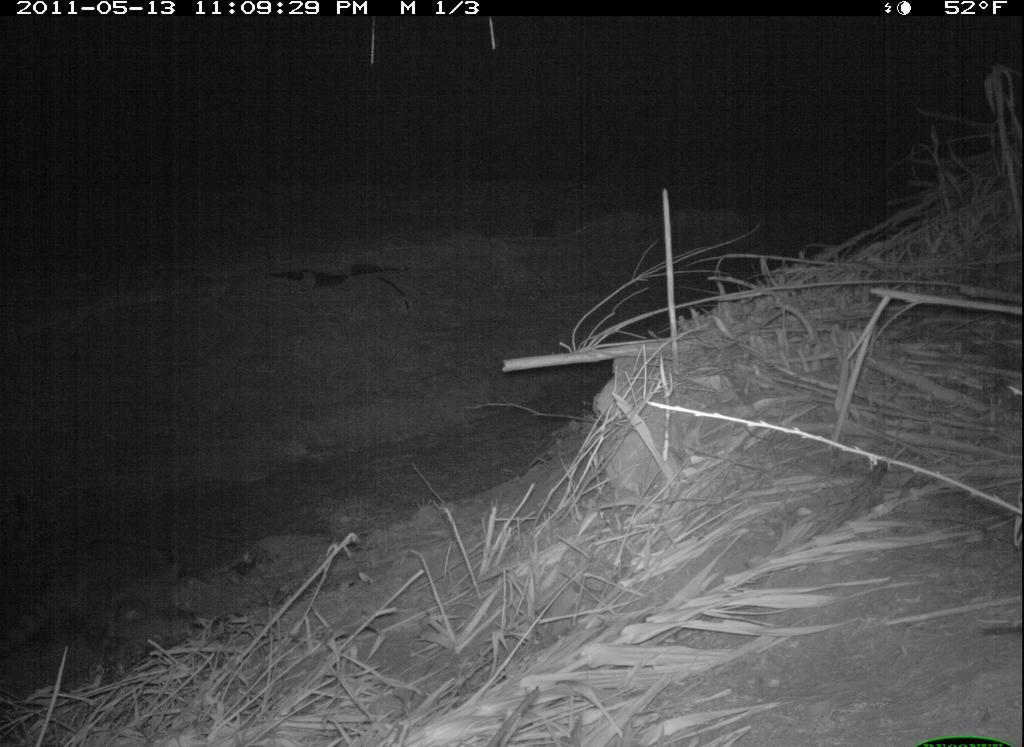raccoon: (1, 525, 204, 670)
